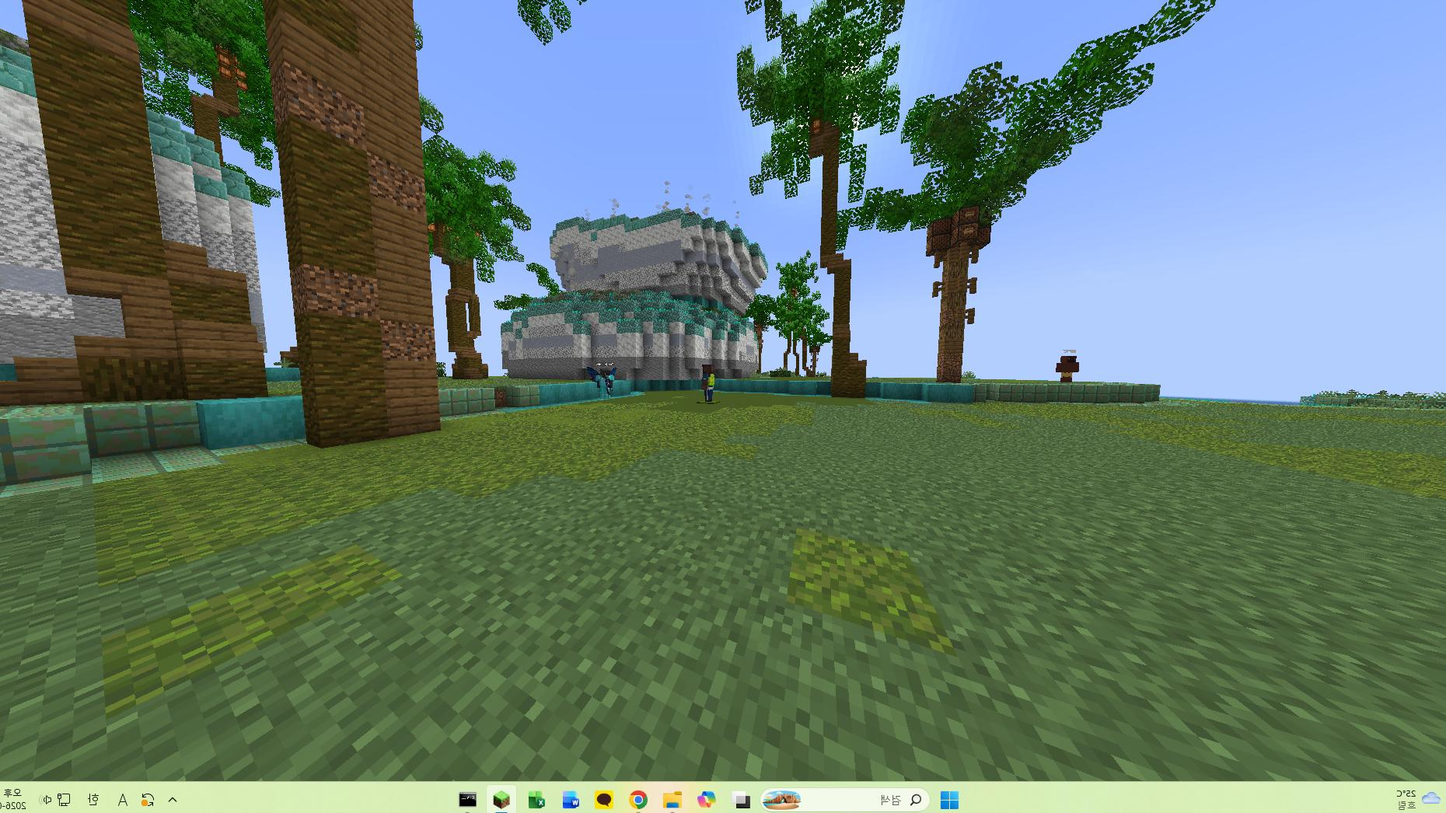Guardian: (686, 341, 730, 412)
